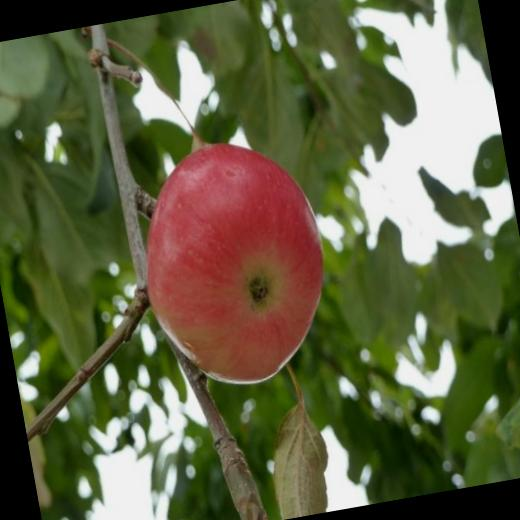Apple: (123, 119, 346, 412)
